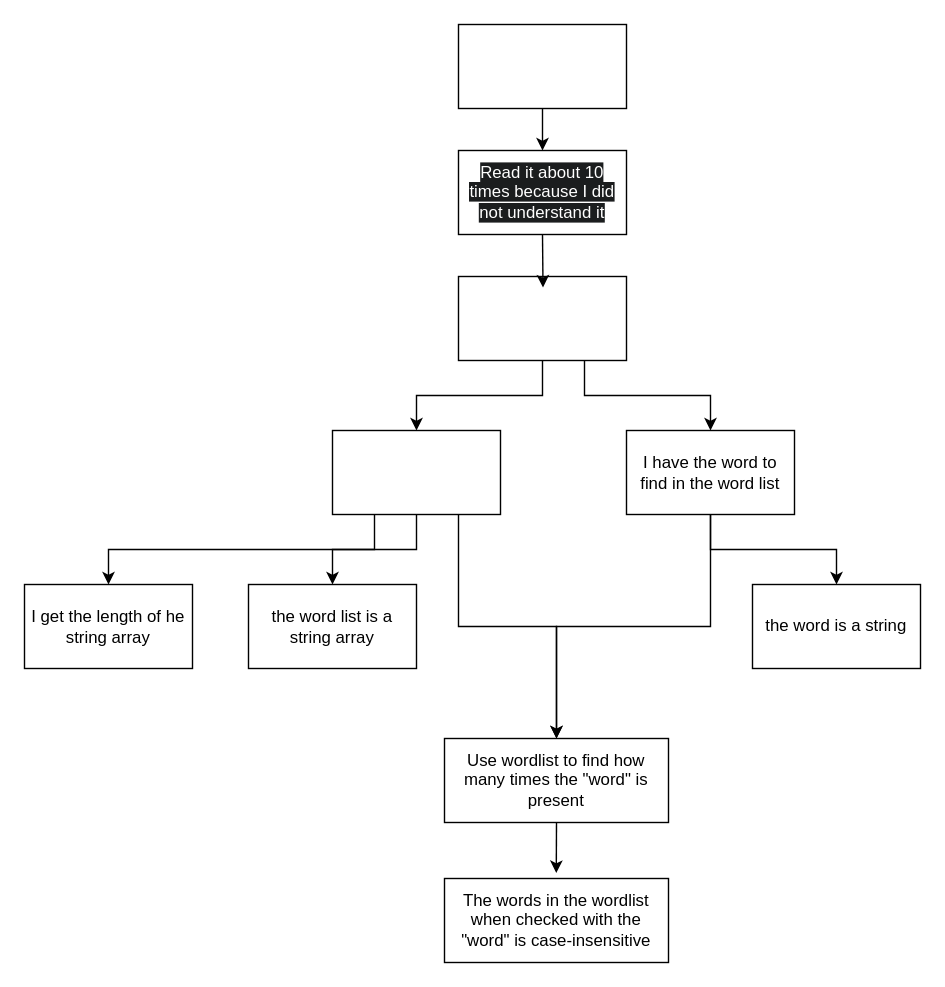
Image size: 945x987. Some labels were removed from this diagram. The centre of each missing label's shape, as x and y in pixels:
"I have a list of words" goes at point (415, 471).
"Saw the question" goes at point (541, 65).
"understood the question" goes at point (541, 317).
